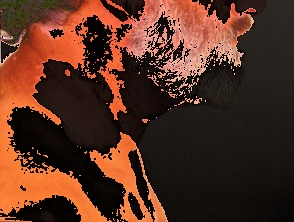vitiligo: (0, 0, 268, 222)
